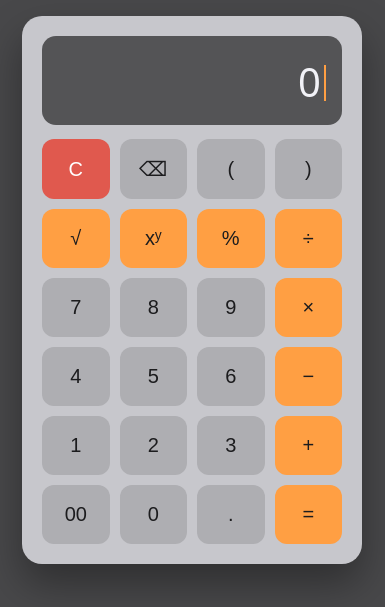
Calculator › clears the display back to 0
Click the button "9" at [231, 308], box 197,278 -> 264,337
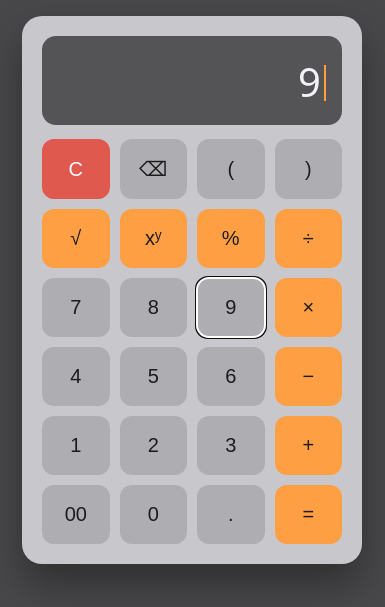
Expected: the message with test id "display-expression" reads "9", 298,54 -> 321,109
Click the button "C" at [76, 169], box 42,139 -> 110,199
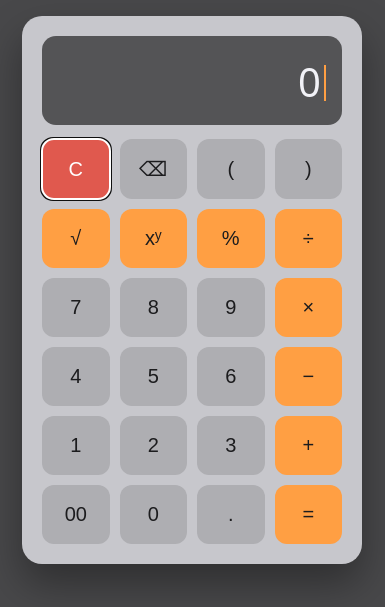
Expected: the message with test id "display-expression" reads "0", 298,54 -> 321,109
